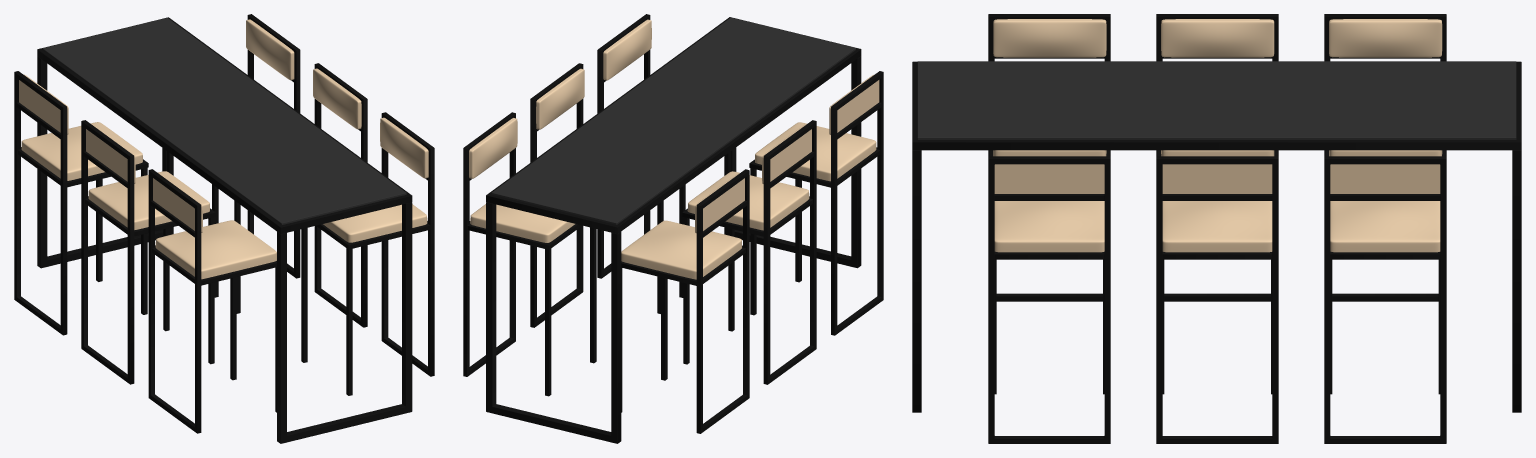
The model's file is Set02.FBX.
3 views of the same model, side by side, from view 1: azimuth 30°, elevation 25°; view 2: azimuth 150°, elevation 25°; view 3: azimuth 270°, elevation 25° (orthographic). The views are drawn at different scales.
Parts seen in each view (by area): view 1: Set02 - Bar Table - 001, Set02 - Bar Stool - 04, Set02 - Bar Stool - 06, Set02 - Bar Stool - 05, Set02 - Bar Stool - 03, Set02 - Bar Stool - 02, Set02 - Bar Stool - 01; view 2: Set02 - Bar Table - 001, Set02 - Bar Stool - 06, Set02 - Bar Stool - 05, Set02 - Bar Stool - 04, Set02 - Bar Stool - 01, Set02 - Bar Stool - 02, Set02 - Bar Stool - 03; view 3: Set02 - Bar Table - 001, Set02 - Bar Stool - 01, Set02 - Bar Stool - 03, Set02 - Bar Stool - 02, Set02 - Bar Stool - 05, Set02 - Bar Stool - 06, Set02 - Bar Stool - 04.
Part boxes in pixels (x1=…): Set02 - Bar Table - 001: x1=37, y1=17, x2=412, y2=443; Set02 - Bar Stool - 04: x1=148, y1=169, x2=276, y2=433; Set02 - Bar Stool - 06: x1=14, y1=71, x2=148, y2=335; Set02 - Bar Stool - 05: x1=81, y1=120, x2=215, y2=384; Set02 - Bar Stool - 03: x1=301, y1=112, x2=434, y2=395; Set02 - Bar Stool - 02: x1=234, y1=63, x2=367, y2=327; Set02 - Bar Stool - 01: x1=167, y1=14, x2=300, y2=297; Set02 - Bar Table - 001: x1=486, y1=17, x2=861, y2=443; Set02 - Bar Stool - 06: x1=621, y1=169, x2=749, y2=433; Set02 - Bar Stool - 05: x1=682, y1=120, x2=816, y2=384; Set02 - Bar Stool - 04: x1=749, y1=71, x2=883, y2=335; Set02 - Bar Stool - 01: x1=463, y1=112, x2=596, y2=396; Set02 - Bar Stool - 02: x1=530, y1=63, x2=663, y2=327; Set02 - Bar Stool - 03: x1=597, y1=14, x2=730, y2=297; Set02 - Bar Table - 001: x1=912, y1=61, x2=1521, y2=412; Set02 - Bar Stool - 01: x1=1324, y1=156, x2=1446, y2=443; Set02 - Bar Stool - 03: x1=988, y1=156, x2=1110, y2=443; Set02 - Bar Stool - 02: x1=1156, y1=156, x2=1278, y2=443; Set02 - Bar Stool - 05: x1=1156, y1=14, x2=1278, y2=301; Set02 - Bar Stool - 06: x1=1324, y1=14, x2=1446, y2=301; Set02 - Bar Stool - 04: x1=988, y1=14, x2=1110, y2=301.
Bounding box in the file's own units: 42.6 × 39.24 × 75.69.
